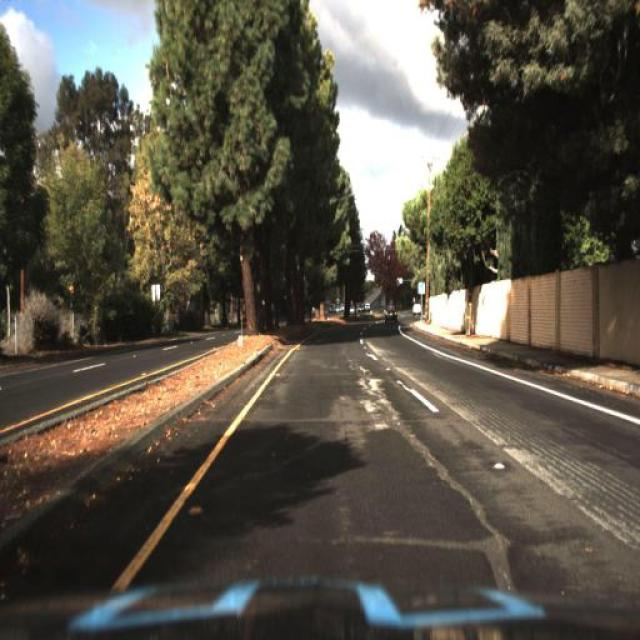car: (380, 298, 404, 324)
